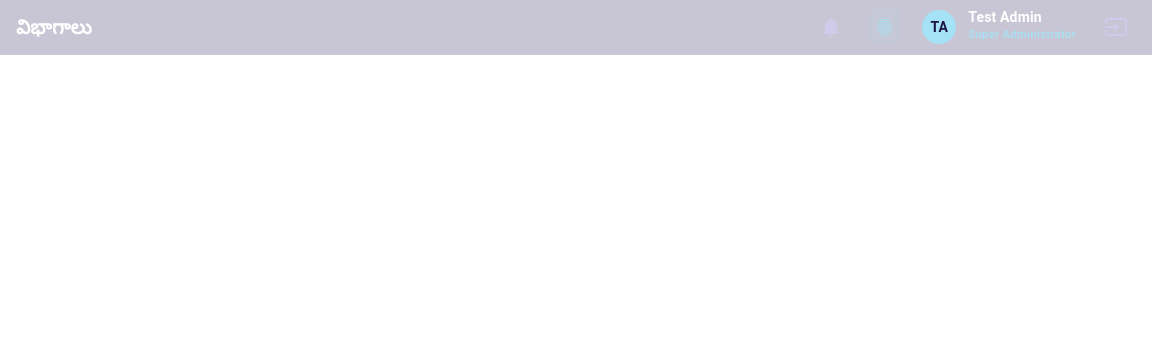
Test case: Header Component › renders translated text in Telugu when language is te
What coordinates should you click on to do the following:
click the element with test id "user-detail-trigger"
I would click on:
 (999, 27)
Its box is [918, 5, 1080, 49].
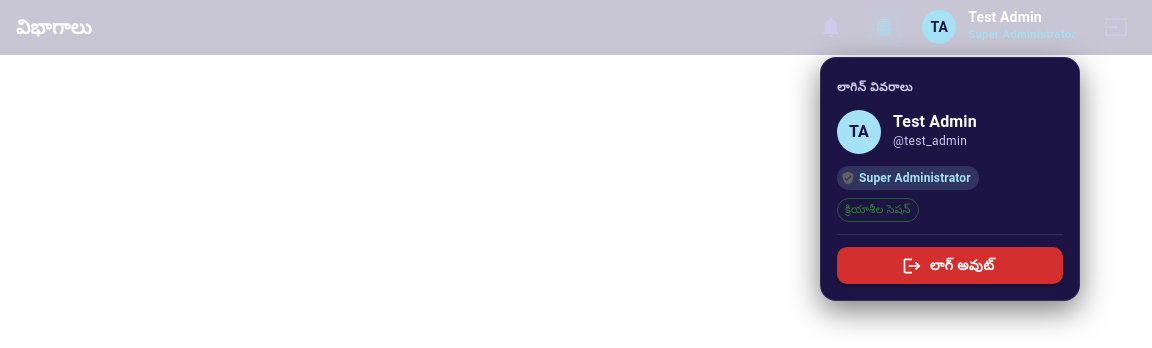
Result: the text "లాగిన్ వివరాలు" is shown at [837, 80, 913, 94]
